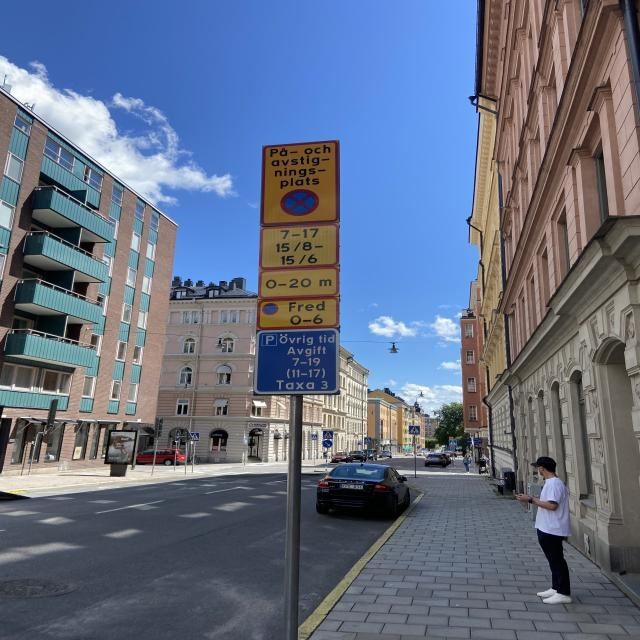avstignnigsplats: (258, 139, 342, 228)
